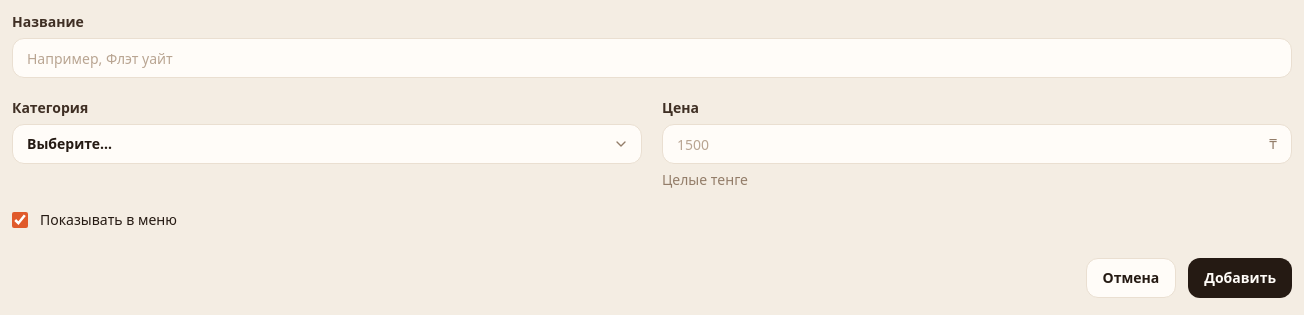
Scenario: ProductForm › rejects a fractional price
In the field labelled "Название": (652, 58) [27,39,1277,77], type "Латте"
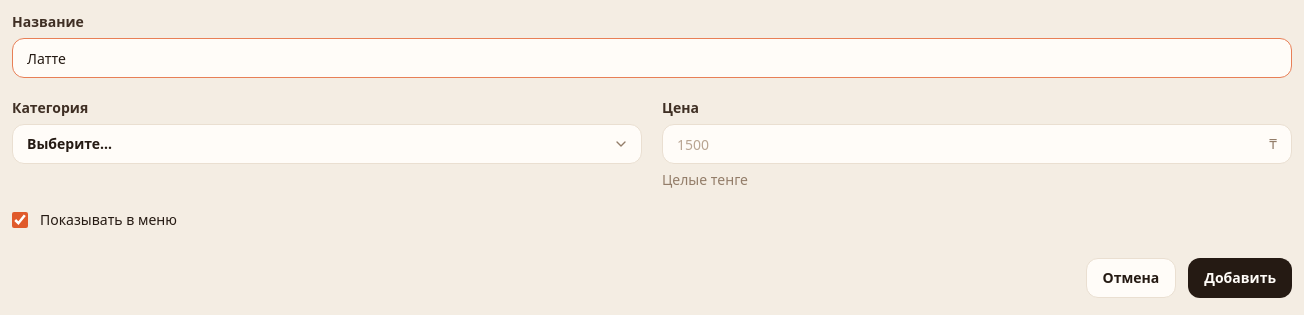
Select "Кофе" in the dropdown labelled "Категория": (327, 144) [13,125,641,163]
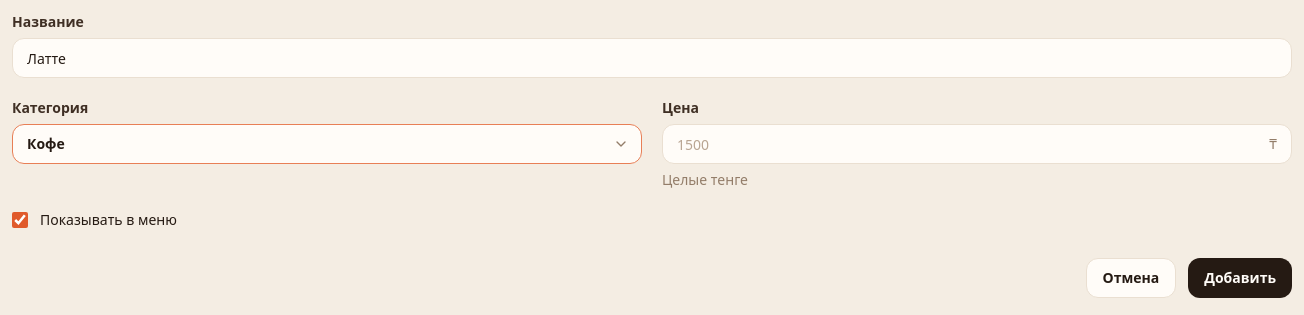
In the number field labelled "Цена": (969, 144) [677,125,1261,163], type "1500.5"
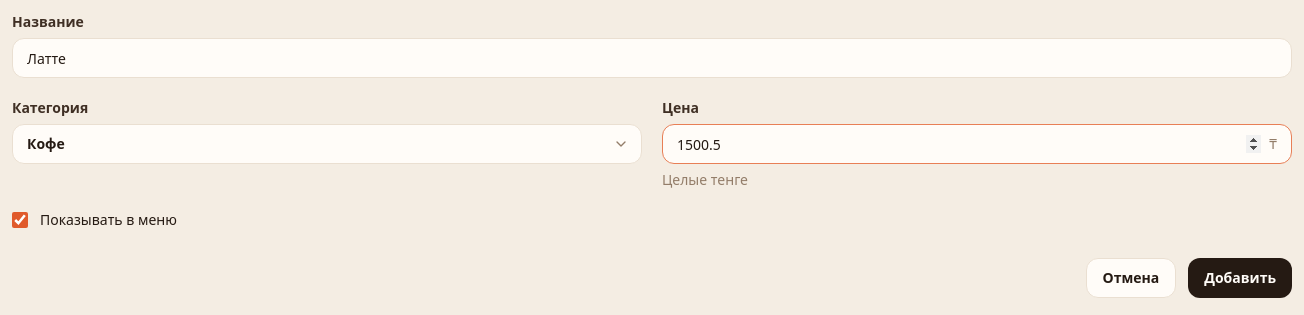
Click the button "Добавить": (1240, 278) [1188,258,1292,298]
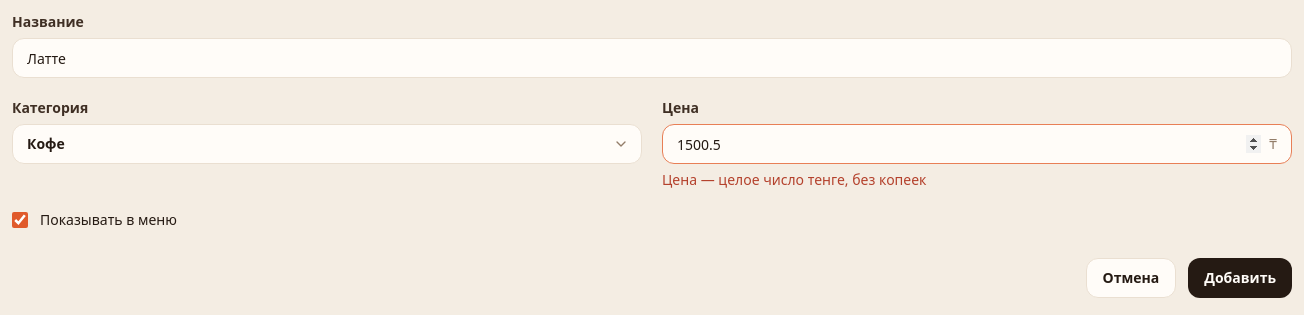
Expected: the text "Цена — целое число тенге, без копеек" is shown, [662,170,926,189]
